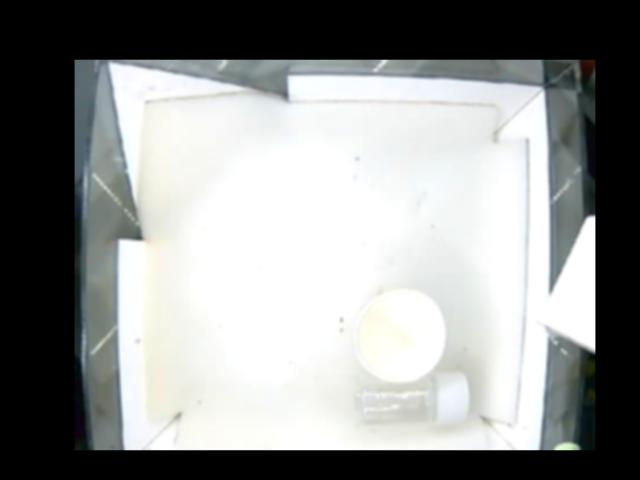Bottle: (357, 371, 471, 427)
Cup: (353, 289, 449, 381)
